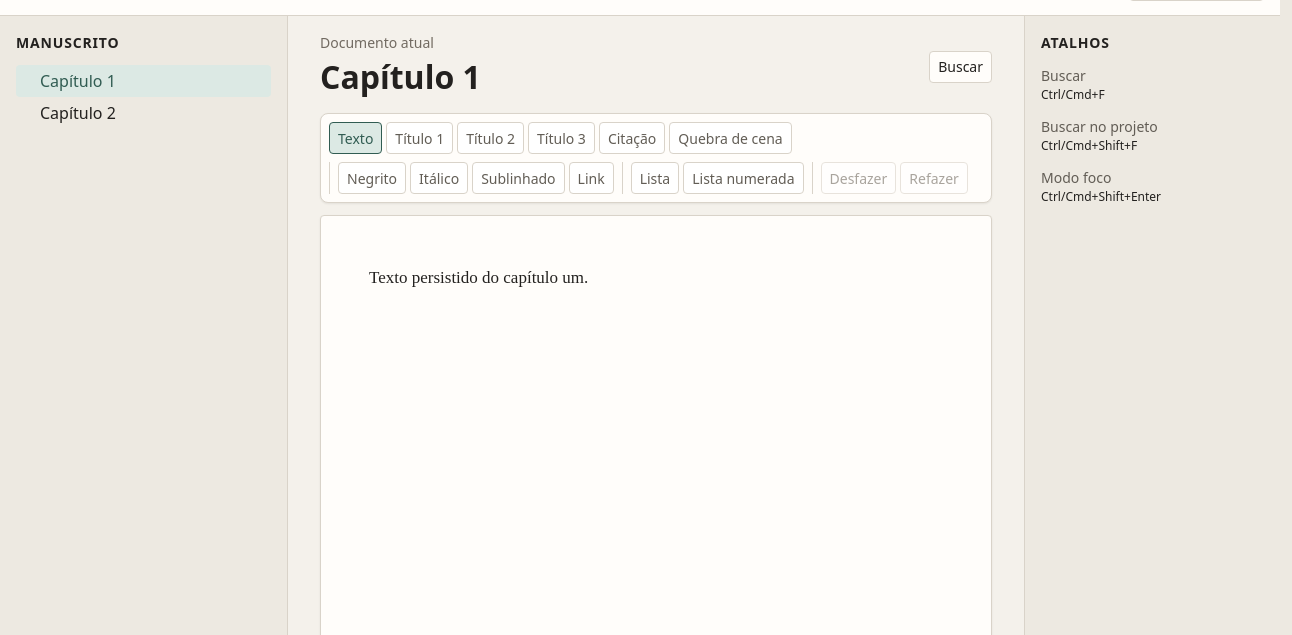
WritingWorkspace › autosaves editor changes after the configured debounce
Expected: the field named "Conteúdo de Capítulo 1" is shown, [369,268,588,287]
Click the button "Quebra de cena".
click(730, 138)  # box [669,122,792,154]
(page scrolled)
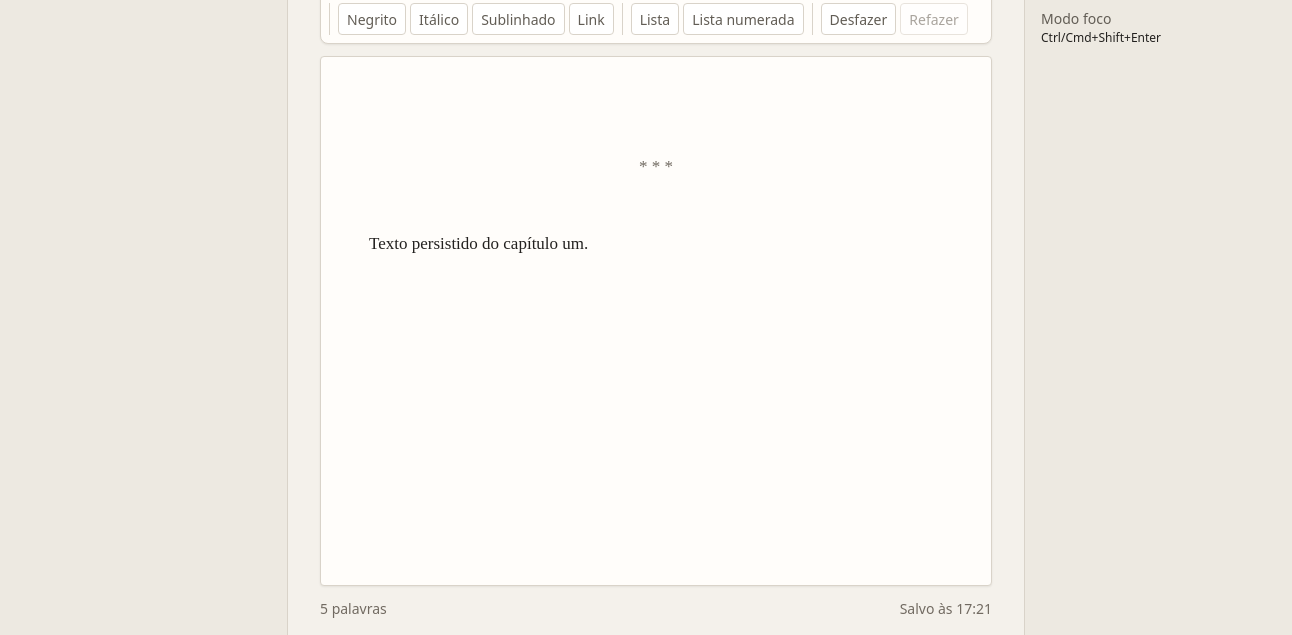
Result: the text "Salvo às 17:21" is shown at [900,598,992,619]
